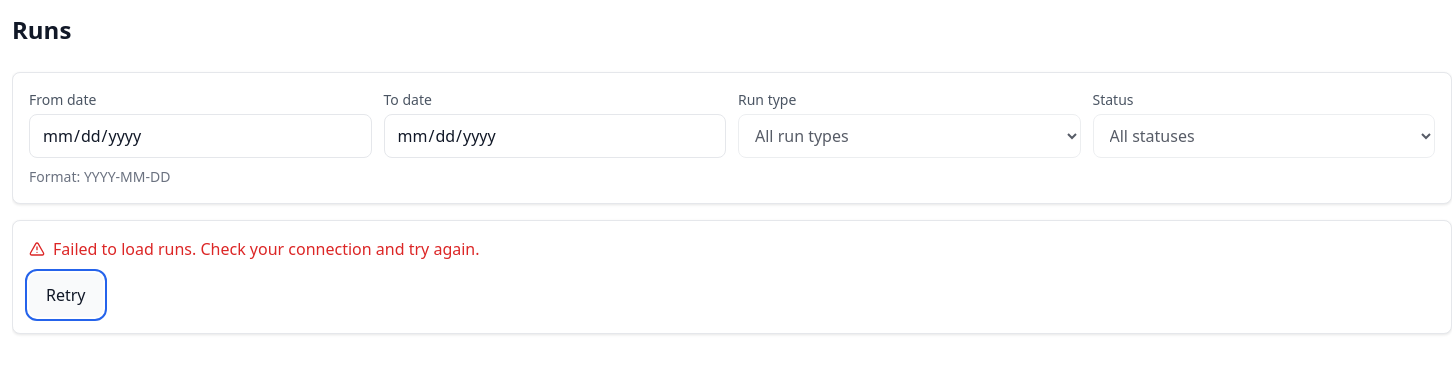
RunsView › recovers to the populated list after a successful retry
The width and height of the screenshot is (1452, 367).
Click the button "Retry" at (66, 295), box [29,273,102,317]
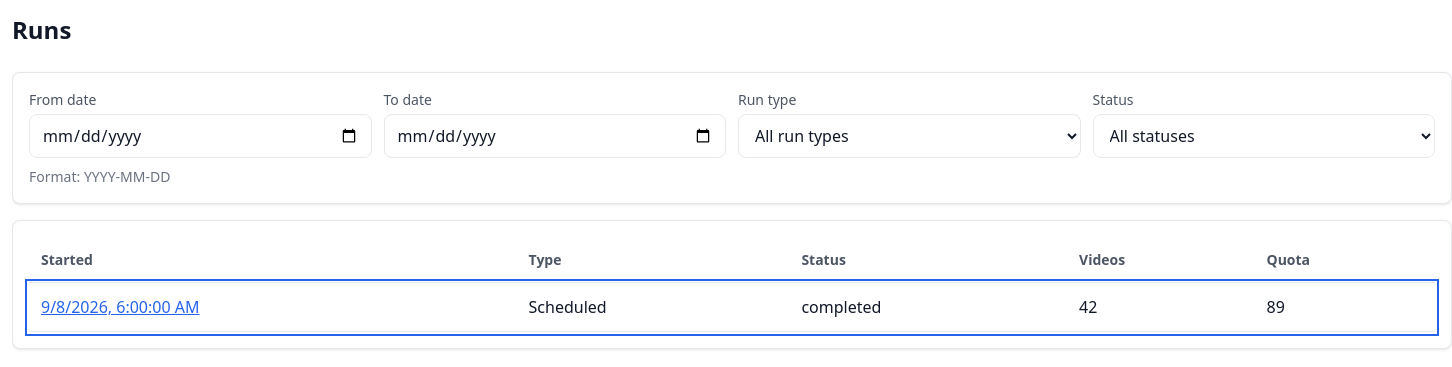
Result: the link "9/8/2026, 6:00:00 AM" is shown at [41,296,200,318]
Result: the message "Failed to load runs. Check your connection and try again. Retry" is gone
